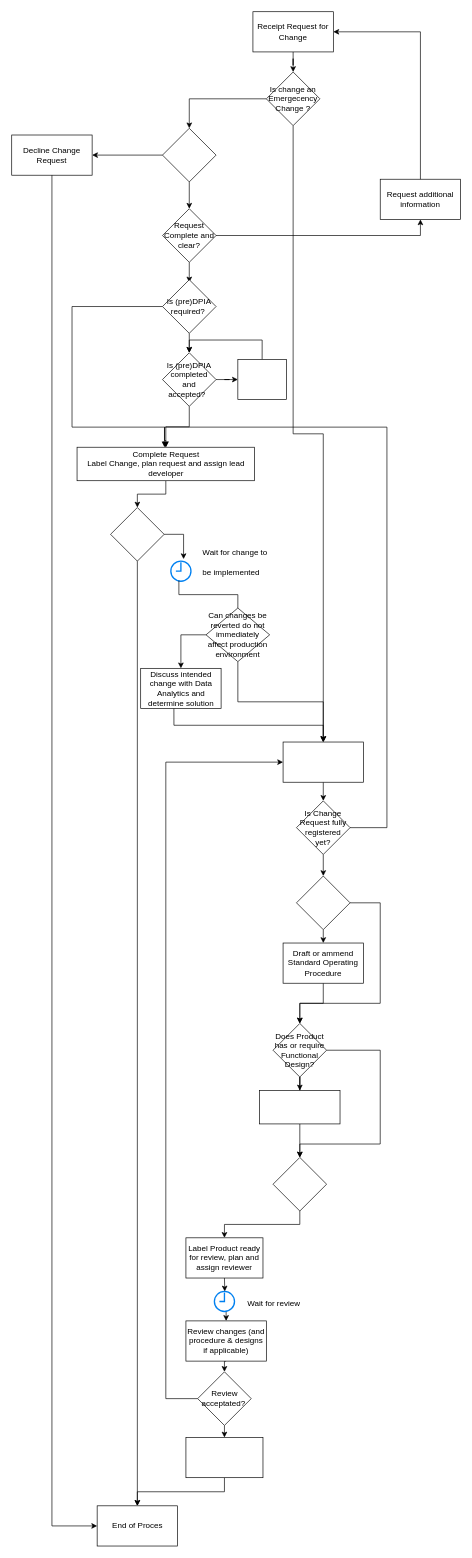
The diagram is 472 pixels wide and 1558 high, and some of its shapes have lost their labels. Each missing label, with the centre of its shape:
"Change already implemenented?" belongs at (x=137, y=534).
"Complete (pre)DPIA process" belongs at (x=261, y=379).
"Deploy Changes, update Register and inform requestor" belongs at (x=224, y=1457).
"Does Change require review?" belongs at (x=299, y=1184).
"Does Product has or require standard Operating Procedure?" belongs at (x=323, y=902).
"Draft or ammend Functional Design" belongs at (x=299, y=1107).
"Requester authorized?" belongs at (x=189, y=155).
"Update Register and Implement Change" belongs at (x=322, y=761).
